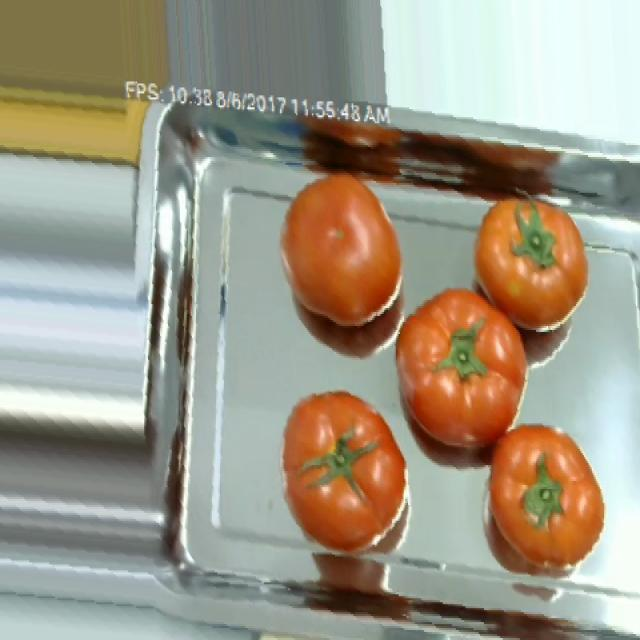kirmizi: (400, 270, 610, 578)
